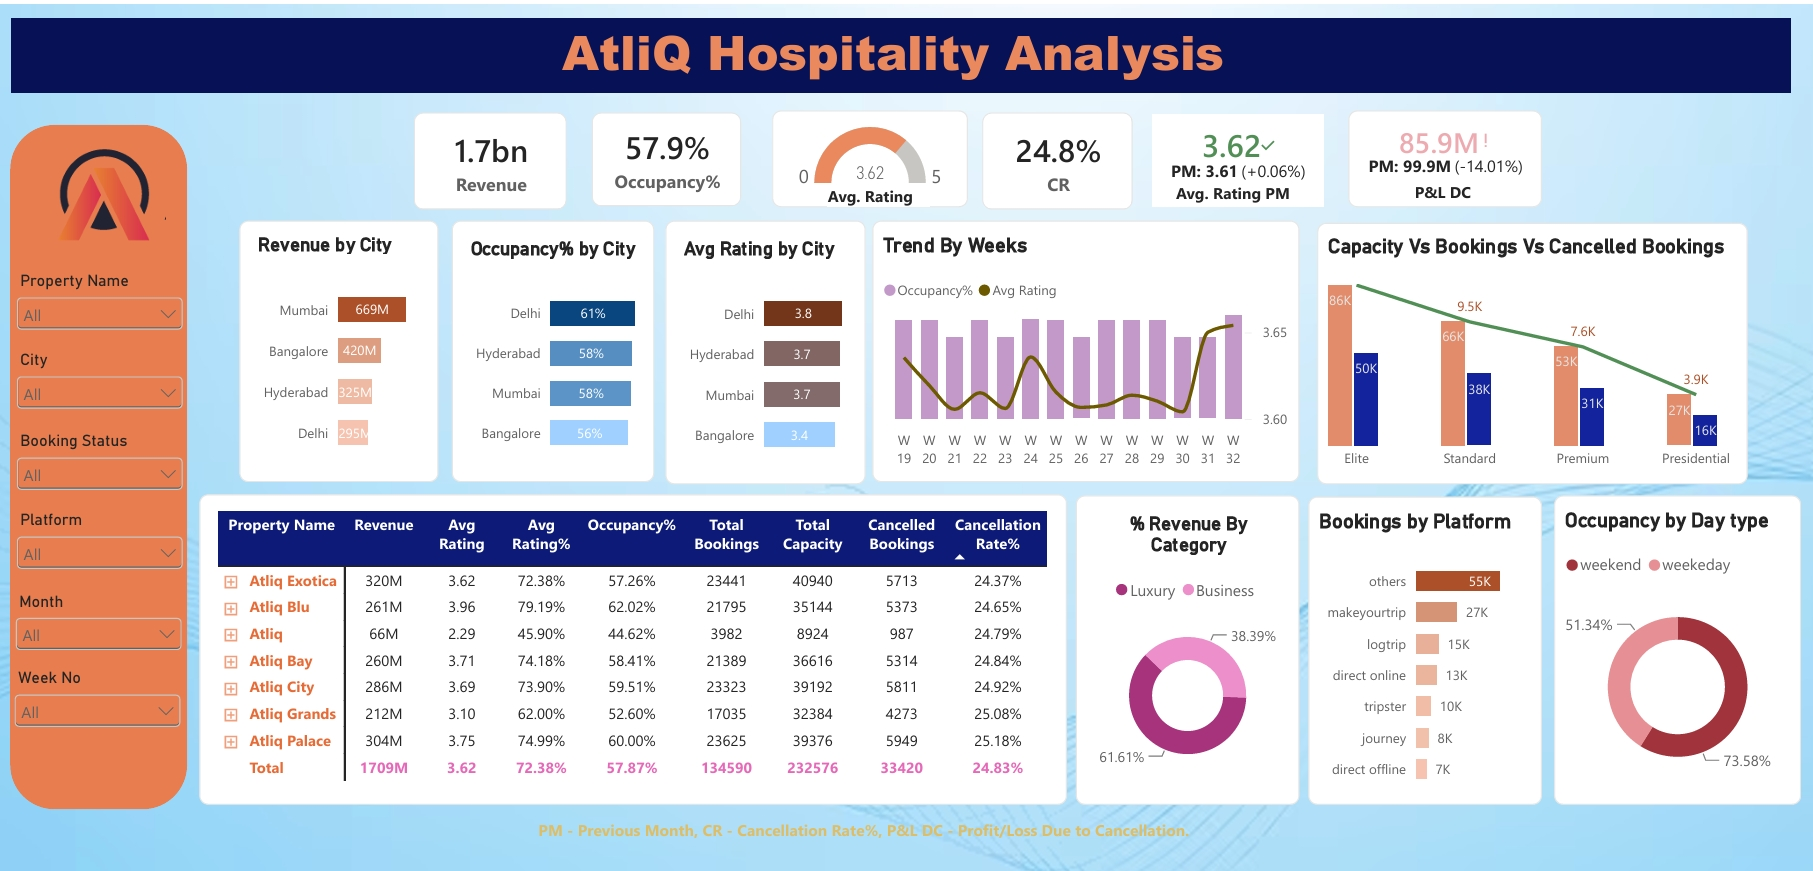

The dashboard page shown, as its layout file describes it:
{"tool":"powerbi","page":{"name":"Hospitality","canvas":[1640,790],"ordinal":0},"visuals":[{"type":"shape","box":[12,108,159,615],"z":0,"group":"g2"},{"type":"pivotTable","fields":{"Rows":["dim_hotels.property_name","dim_hotels.city"],"Values":["hospitality_measures.Total Revenue","hospitality_measures.Avg Rating","hospitality_measures.Avg Rating%","hospitality_measures.Occupancy%","hospitality_measures.Total Successful Bookings","hospitality_measures.Total Capacity","hospitality_measures.Total Cancelled Bookings","hospitality_measures.Cancelation Rate"]},"box":[181.8,440.2,780,279],"z":1000},{"type":"clusteredBarChart","title":"Revenue by City","fields":{"Category":["dim_hotels.city"],"Y":["hospitality_measures.Total Revenue"]},"box":[218.2,193.6,178.8,235],"z":2000},{"type":"clusteredBarChart","title":"Occupancy% by City","fields":{"Category":["dim_hotels.city"],"Y":["hospitality_measures.Occupancy%"]},"box":[409.4,193.6,181.2,235],"z":3000},{"type":"clusteredBarChart","title":"Avg Rating by City","fields":{"Category":["dim_hotels.city"],"Y":["hospitality_measures.Avg Rating"]},"box":[600.7,193.6,180,237.5],"z":4000},{"type":"clusteredBarChart","title":"Bookings by Platform","fields":{"Category":["fact_bookings.booking_platform"],"Y":["hospitality_measures.Total Bookings"]},"box":[1179.4,442.2,210,277],"z":5000},{"type":"donutChart","title":"Occupancy by Day type","fields":{"Category":["dim_date.day_type"],"Y":["hospitality_measures.Occupancy%"]},"box":[1400.4,441.2,222,278],"z":6000},{"type":"lineStackedColumnComboChart","title":"Trend By Weeks","fields":{"Category":["dim_date.week no"],"Y":["hospitality_measures.Occupancy%"],"Y2":["hospitality_measures.Avg Rating"]},"box":[786.9,193.6,383.8,235],"z":7000},{"type":"cardVisual","fields":{"Data":["hospitality_measures.Total Revenue"]},"box":[374.9,97.5,136.8,86.2],"z":8000},{"type":"gauge","title":"Avg.Rating","fields":{"MaxValue":["hospitality_measures.max rating"],"MinValue":["hospitality_measures.min rating"],"Y":["hospitality_measures.Avg Rating"]},"box":[696.7,95.2,175.9,87.4],"z":9000,"group":"g1"},{"type":"cardVisual","fields":{"Data":["hospitality_measures.Occupancy%"]},"box":[534.7,97.5,134.5,83.9],"z":9000},{"type":"group","id":"g1","title":"Group 1","box":[696.7,95.2,175.9,87.4],"z":10000},{"type":"textbox","box":[746.4,162.4,92,19.5],"z":10000,"group":"g1"},{"type":"cardVisual","fields":{"Data":["hospitality_measures.CR"]},"box":[886.4,97.5,134.5,86.2],"z":11000},{"type":"lineClusteredColumnComboChart","title":"Capacity Vs Bookings Vs Cancelled Bookings","fields":{"Category":["dim_rooms.room_class"],"Y":["hospitality_measures.Total Capacity","hospitality_measures.Total Successful Bookings"],"Y2":["hospitality_measures.Total Cancelled Bookings"]},"box":[1186.9,196.1,387.5,235],"z":12000},{"type":"textbox","box":[13,12,1600,67],"z":13000},{"type":"slicer","fields":{"Values":["dim_hotels.property_name"]},"box":[12.8,239.6,158.8,61.2],"z":14000,"group":"g2"},{"type":"slicer","fields":{"Values":["dim_hotels.city"]},"box":[12.8,310.8,158.8,70],"z":15000,"group":"g2"},{"type":"slicer","fields":{"Values":["fact_bookings.booking_status"]},"box":[13,384,159,62],"z":16000,"group":"g2"},{"type":"slicer","fields":{"Values":["fact_bookings.booking_platform"]},"box":[13,455,158.8,67.5],"z":17000,"group":"g2"},{"type":"slicer","fields":{"Values":["dim_date.mmm yy.Variation.Date Hierarchy.Month"]},"box":[12,528,158.8,68.8],"z":18000,"group":"g2"},{"type":"slicer","fields":{"Values":["dim_date.week no"]},"box":[11,597,158.8,70],"z":19000,"group":"g2"},{"type":"image","title":"atliq","box":[32,129,120,83.8],"z":20000,"group":"g2"},{"type":"kpi","title":"Avg. Rating PM","fields":{"Goal":["hospitality_measures.Avg.Rating LM"],"Indicator":["hospitality_measures.Avg Rating"],"TrendLine":["dim_date.date.Variation.Date Hierarchy.Month"]},"box":[1039.3,98.6,154,83],"z":21000,"group":"g3"},{"type":"textbox","box":[1060.2,159.2,124,22],"z":22000,"group":"g3"},{"type":"kpi","fields":{"Goal":["hospitality_measures.P&L DC PM"],"Indicator":["hospitality_measures.P&LDC"],"TrendLine":["dim_date.date.Variation.Date Hierarchy.Month"]},"box":[1215.1,95.2,173.6,87.4],"z":23000,"group":"g4"},{"type":"textbox","box":[1247.2,159.2,106,22],"z":24000,"group":"g4"},{"type":"textbox","box":[24,732,1507,25],"z":25000},{"type":"donutChart","title":"% Revenue By Category","fields":{"Category":["dim_hotels.category"],"Y":["hospitality_measures.Total Revenue"]},"box":[970,441,201,278],"z":25001},{"type":"group","id":"g2","title":"Group 2","box":[11,108,161,615],"z":25002},{"type":"group","id":"g3","title":"Group 3","box":[1039.3,98.6,154,83],"z":25003},{"type":"group","id":"g4","title":"Group 4","box":[1215.1,95.2,173.6,87.4],"z":25004}]}

Visuals, with their boxes in screenshot pixels (x1, y1, x2, y2), scaled from the page's 1640x790 canvas onto the 1813x871 screenshot:
shape: bbox(13, 119, 189, 797)
pivotTable - dim_hotels.property_name x dim_hotels.city: bbox(201, 485, 1063, 793)
"Revenue by City" clusteredBarChart: bbox(241, 213, 439, 473)
"Occupancy% by City" clusteredBarChart: bbox(453, 213, 653, 473)
"Avg Rating by City" clusteredBarChart: bbox(664, 213, 863, 475)
"Bookings by Platform" clusteredBarChart: bbox(1304, 488, 1536, 793)
"Occupancy by Day type" donutChart: bbox(1548, 486, 1794, 793)
"Trend By Weeks" lineStackedColumnComboChart: bbox(870, 213, 1294, 473)
cardVisual - hospitality_measures.Total Revenue: bbox(414, 107, 566, 203)
"Avg.Rating" gauge: bbox(770, 105, 965, 201)
cardVisual - hospitality_measures.Occupancy%: bbox(591, 107, 740, 200)
"Group 1" group: bbox(770, 105, 965, 201)
textbox: bbox(825, 179, 927, 201)
cardVisual - hospitality_measures.CR: bbox(980, 107, 1129, 203)
"Capacity Vs Bookings Vs Cancelled Bookings" lineClusteredColumnComboChart: bbox(1312, 216, 1740, 475)
textbox: bbox(14, 13, 1783, 87)
slicer - dim_hotels.property_name: bbox(14, 264, 190, 332)
slicer - dim_hotels.city: bbox(14, 343, 190, 420)
slicer - fact_bookings.booking_status: bbox(14, 423, 190, 492)
slicer - fact_bookings.booking_platform: bbox(14, 502, 190, 576)
slicer - dim_date.mmm yy.Variation.Date Hierarchy.Month: bbox(13, 582, 189, 658)
slicer - dim_date.week no: bbox(12, 658, 188, 735)
"atliq" image: bbox(35, 142, 168, 235)
"Avg. Rating PM" kpi: bbox(1149, 109, 1319, 200)
textbox: bbox(1172, 176, 1309, 200)
kpi - hospitality_measures.P&L DC PM x hospitality_measures.P&LDC: bbox(1343, 105, 1535, 201)
textbox: bbox(1379, 176, 1496, 200)
textbox: bbox(27, 807, 1693, 835)
"% Revenue By Category" donutChart: bbox(1072, 486, 1295, 793)
"Group 2" group: bbox(12, 119, 190, 797)
"Group 3" group: bbox(1149, 109, 1319, 200)
"Group 4" group: bbox(1343, 105, 1535, 201)
